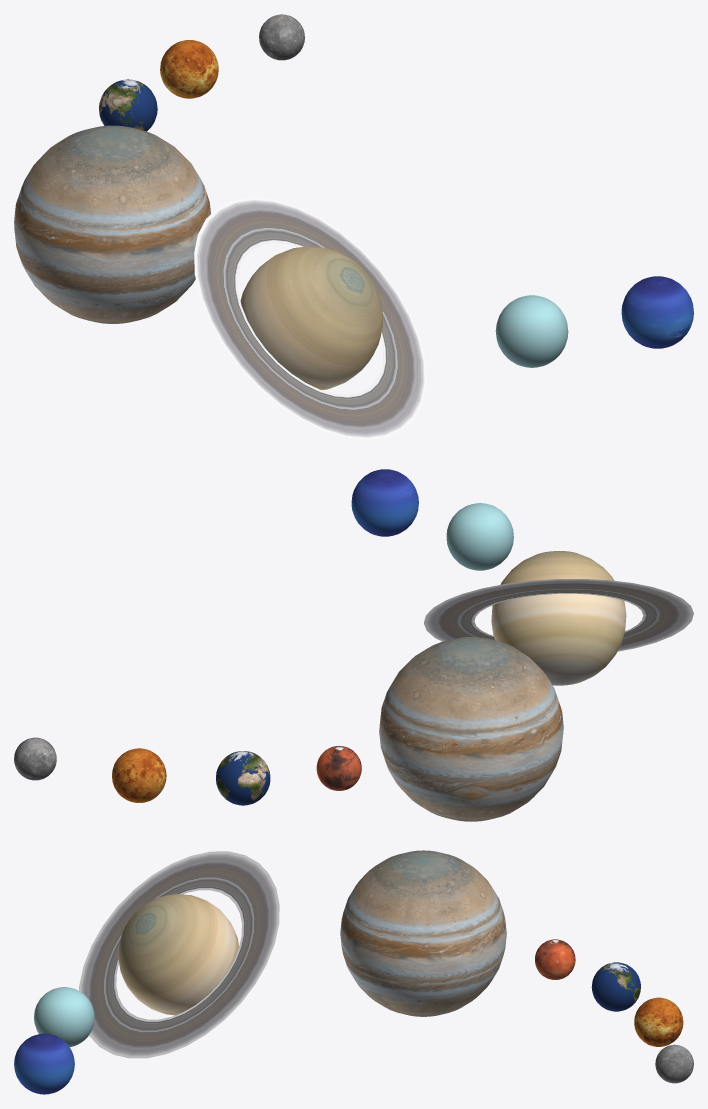
File: solar system.obj
The picture shows the model from 3 angles, top to bottom: view 1: azimuth 30°, elevation 25°; view 2: azimuth 150°, elevation 25°; view 3: azimuth 270°, elevation 25°; orthographic projection. The views are drawn at different scales.
Visible parts, largest first — view 1: 5_Jupiter_Sphere.004, saturn_ring_Circle, 6_Saturn_Sphere.005, 8_Neptune_Sphere.007, 7_Uranus_Sphere.006, 2_Venus_Sphere.001, 3_Earth_Sphere.002, 1_Mercury_Sphere; view 2: 5_Jupiter_Sphere.004, 6_Saturn_Sphere.005, saturn_ring_Circle, 8_Neptune_Sphere.007, 7_Uranus_Sphere.006, 2_Venus_Sphere.001, 3_Earth_Sphere.002, 4_Mars_Sphere.003, 1_Mercury_Sphere; view 3: 5_Jupiter_Sphere.004, saturn_ring_Circle, 6_Saturn_Sphere.005, 8_Neptune_Sphere.007, 7_Uranus_Sphere.006, 3_Earth_Sphere.002, 2_Venus_Sphere.001, 4_Mars_Sphere.003, 1_Mercury_Sphere.
Boxes of the visible parts, left/top/right/bottom form: 5_Jupiter_Sphere.004: left=14, top=125, right=210, bottom=323; saturn_ring_Circle: left=194, top=197, right=426, bottom=440; 6_Saturn_Sphere.005: left=240, top=246, right=382, bottom=389; 8_Neptune_Sphere.007: left=621, top=276, right=693, bottom=348; 7_Uranus_Sphere.006: left=495, top=295, right=568, bottom=367; 2_Venus_Sphere.001: left=160, top=40, right=218, bottom=98; 3_Earth_Sphere.002: left=99, top=79, right=157, bottom=131; 1_Mercury_Sphere: left=259, top=14, right=304, bottom=60; 5_Jupiter_Sphere.004: left=379, top=637, right=563, bottom=821; 6_Saturn_Sphere.005: left=491, top=551, right=626, bottom=685; saturn_ring_Circle: left=424, top=579, right=693, bottom=651; 8_Neptune_Sphere.007: left=351, top=469, right=418, bottom=536; 7_Uranus_Sphere.006: left=446, top=503, right=513, bottom=570; 2_Venus_Sphere.001: left=112, top=748, right=166, bottom=802; 3_Earth_Sphere.002: left=216, top=751, right=270, bottom=805; 4_Mars_Sphere.003: left=316, top=745, right=361, bottom=790; 1_Mercury_Sphere: left=14, top=737, right=56, bottom=780; 5_Jupiter_Sphere.004: left=340, top=850, right=506, bottom=1016; saturn_ring_Circle: left=79, top=851, right=279, bottom=1058; 6_Saturn_Sphere.005: left=118, top=894, right=238, bottom=1015; 8_Neptune_Sphere.007: left=14, top=1033, right=74, bottom=1094; 7_Uranus_Sphere.006: left=34, top=987, right=94, bottom=1047; 3_Earth_Sphere.002: left=591, top=962, right=640, bottom=1011; 2_Venus_Sphere.001: left=634, top=997, right=683, bottom=1046; 4_Mars_Sphere.003: left=535, top=939, right=575, bottom=979; 1_Mercury_Sphere: left=655, top=1044, right=693, bottom=1083.
Size of the model in its own units: 17.11 by 6.75 by 27.55.
9 materials, 9 textured.
